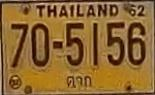0: (31, 22, 49, 66)
1: (92, 22, 97, 66)
5: (106, 21, 124, 65), (66, 22, 84, 65)
6: (127, 22, 145, 64)
7: (10, 23, 28, 67)
TAK: (63, 74, 95, 89)
